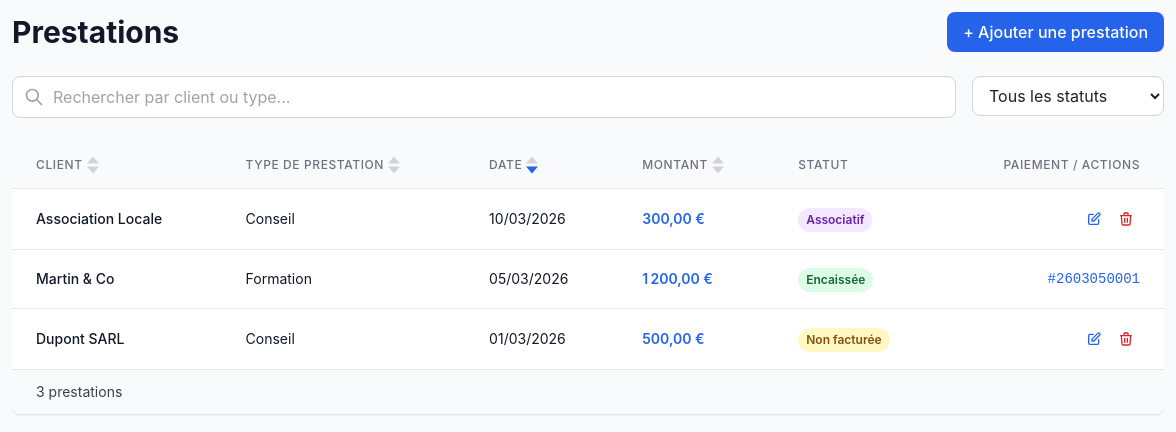
Prestations page › shows only matching prestations when status filter is applied
Select "Associatif" in the dropdown showing "Tous les statuts" at (1068, 96), box [972,76,1164,116]
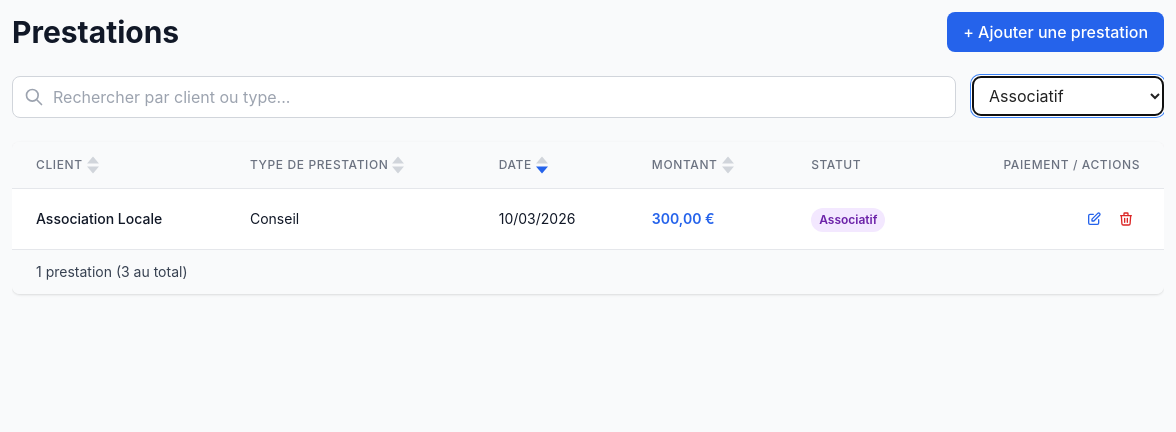
Now the text "Dupont SARL" is gone
Now the text "Martin & Co" is gone
